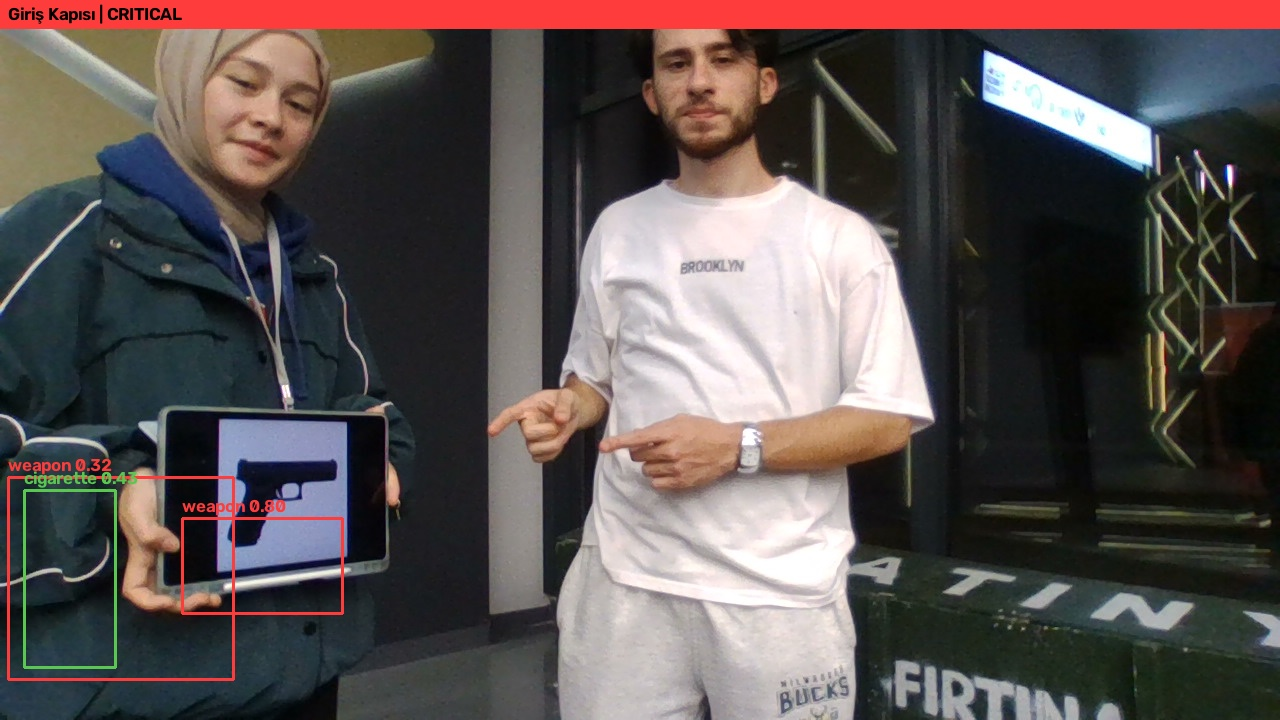weapon: (229, 434, 337, 530)
